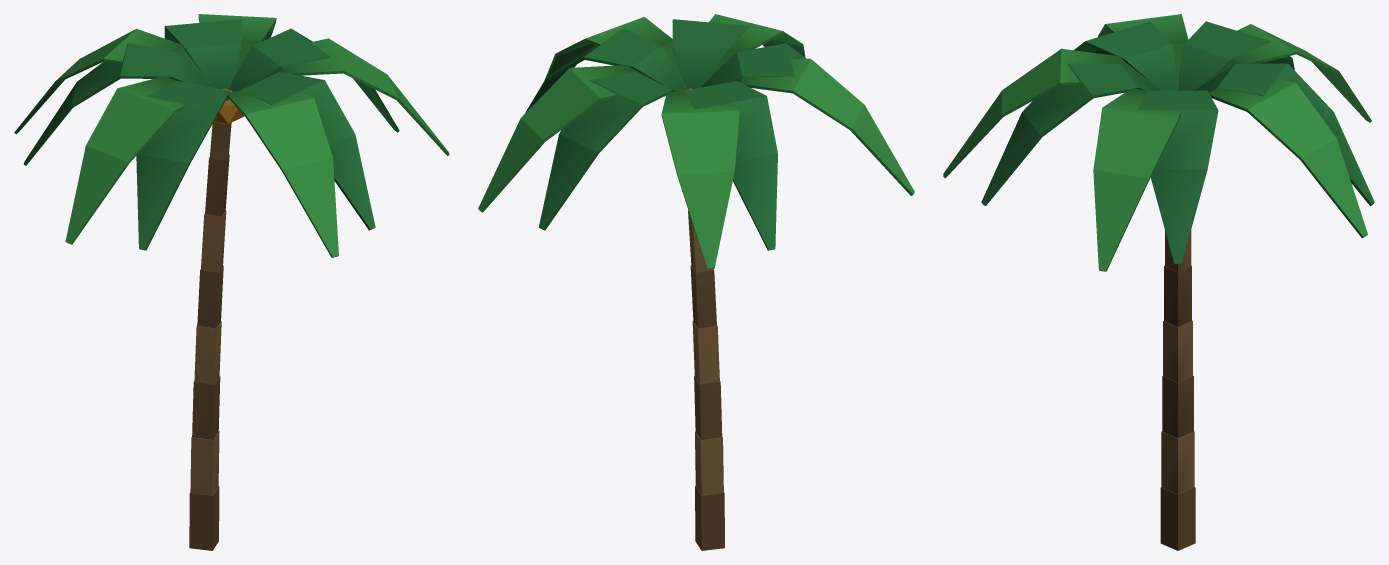
Rendered from du_palm_lo-BISyWW6A.glb.
3 renders of one model, left to right at view 1: azimuth 30°, elevation 25°; view 2: azimuth 150°, elevation 25°; view 3: azimuth 270°, elevation 25°, orthographic. The views are drawn at different scales.
Size of the model in its own units: 6.15 by 7.36 by 5.91.
